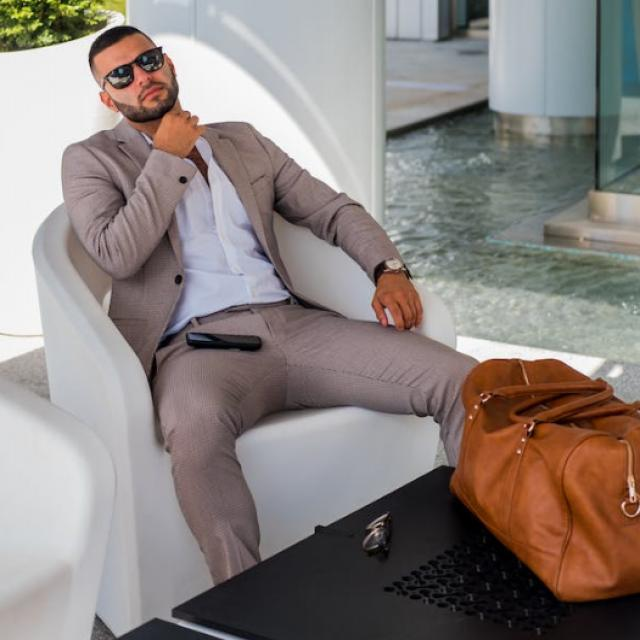Watch: (367, 254, 417, 284)
